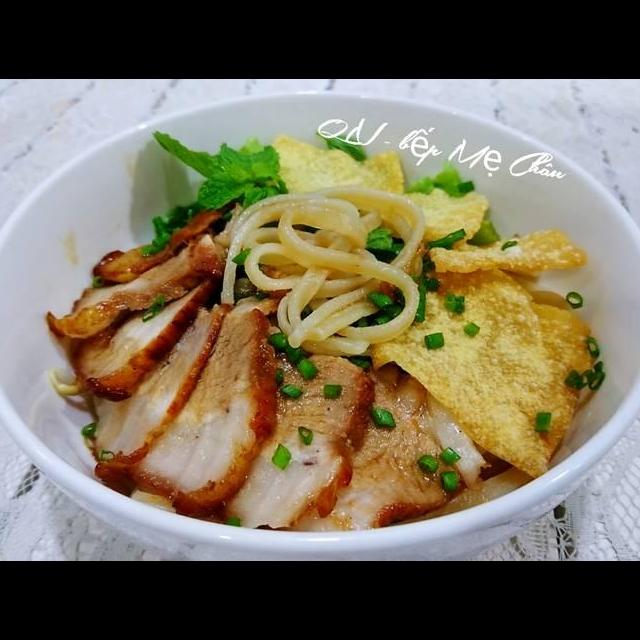banh da: (362, 234, 601, 484), (259, 132, 408, 213), (417, 224, 593, 282), (371, 183, 493, 256)
mi: (209, 181, 432, 370)
thit heo: (92, 299, 282, 522), (279, 353, 492, 540), (197, 331, 381, 537), (81, 294, 236, 473), (42, 222, 228, 351), (62, 270, 219, 406), (88, 200, 229, 289)
